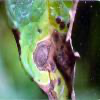Tomato Early blight leaf: (5, 1, 80, 100)
